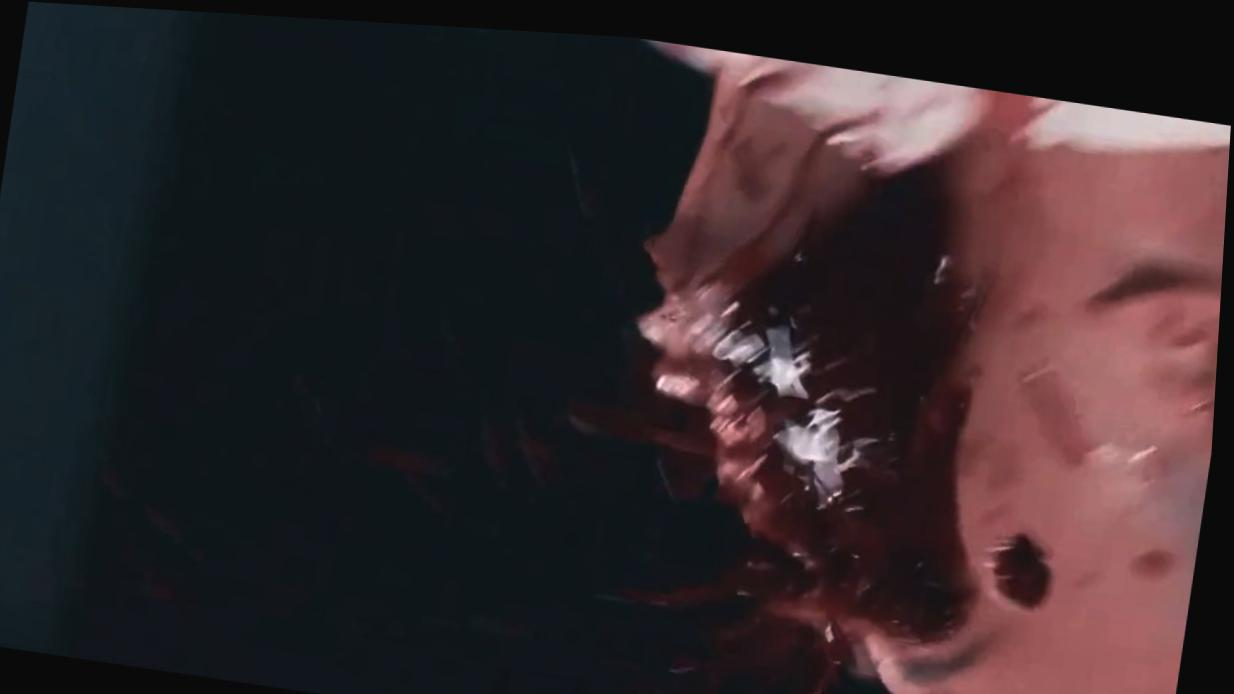Fire: (347, 55, 1187, 694)
